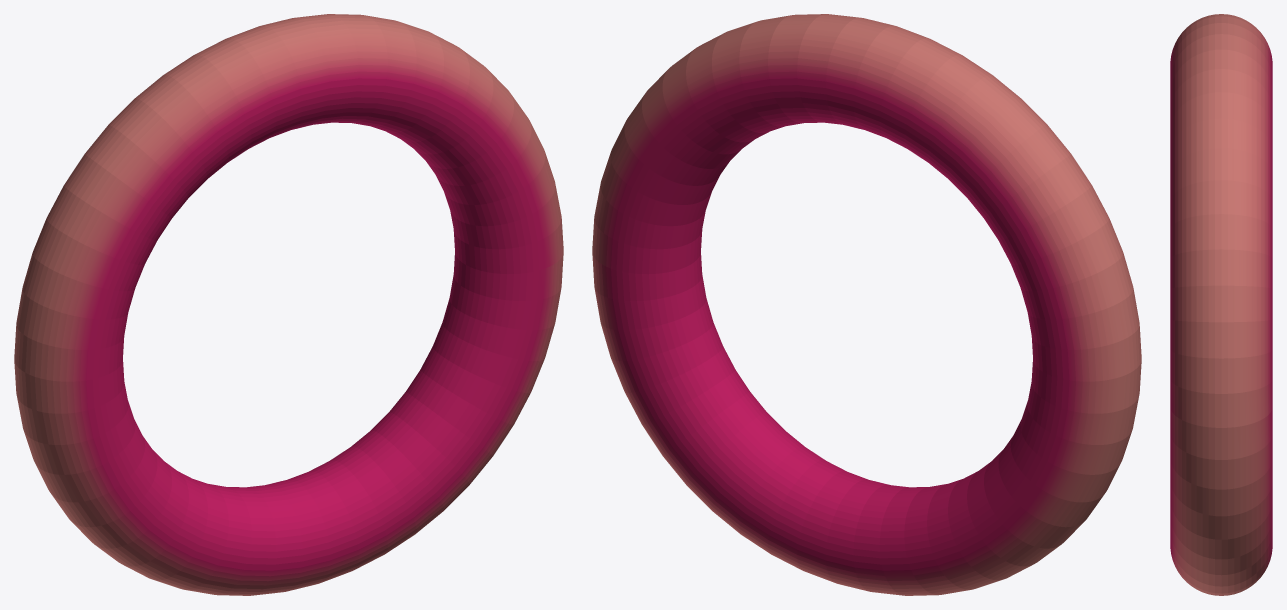
The picture shows the model from 3 angles, left to right: view 1: azimuth 30°, elevation 25°; view 2: azimuth 150°, elevation 25°; view 3: azimuth 270°, elevation 25°; orthographic projection. The views are drawn at different scales.
Visible parts, largest first — view 1: world; view 2: world; view 3: world.
Boxes of the visible parts, <box> form: world: <box>14,14,563,595</box>; world: <box>592,14,1141,595</box>; world: <box>1170,14,1272,595</box>.
Size of the model in its own units: 35.6 by 35.53 by 6.25.
